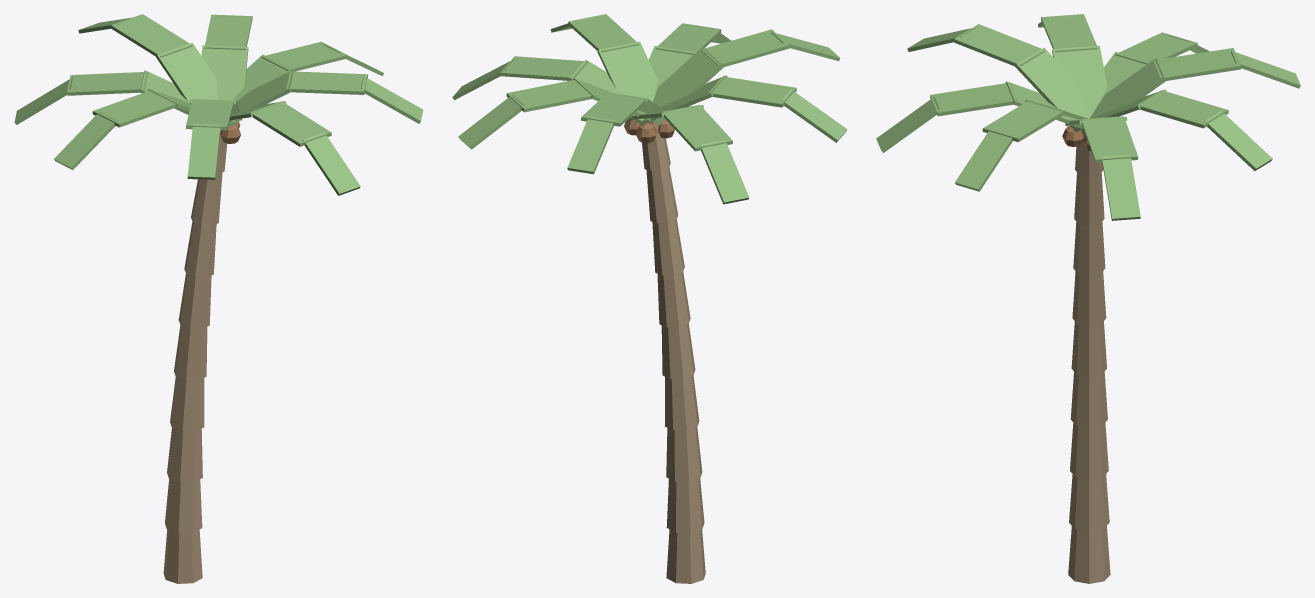
The model's file is HJ_Palmera.fbx.
3 views of the same model, side by side, from view 1: azimuth 30°, elevation 25°; view 2: azimuth 150°, elevation 25°; view 3: azimuth 270°, elevation 25° (orthographic). The views are drawn at different scales.
Parts seen in each view (by area): view 1: HJ_Palmera; view 2: HJ_Palmera; view 3: HJ_Palmera.
Boxes of the visible parts, x1,y1,x2,y2 form: HJ_Palmera: (14, 14, 423, 583); HJ_Palmera: (452, 14, 847, 583); HJ_Palmera: (876, 14, 1300, 583).
Size of the model in its own units: 4.42 by 6.02 by 4.4.
